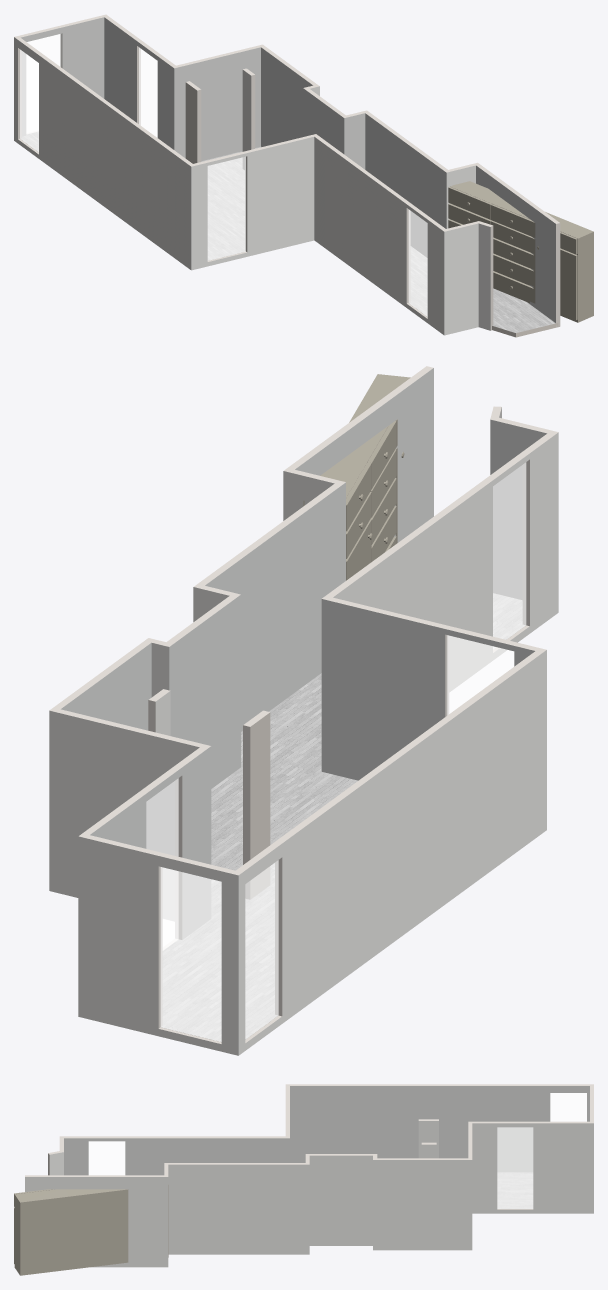
File: BasementHallwayNearLibrary.glb
The picture shows the model from 3 angles, top to bottom: view 1: azimuth 30°, elevation 25°; view 2: azimuth 150°, elevation 25°; view 3: azimuth 270°, elevation 25°; orthographic projection. The views are drawn at different scales.
Visible parts, largest first — view 1: wall_15, wall_5, wall_8, storage_cabinet_mid30, wall_45, wall_21, wall_43, floor_Other_1, wall_6, door_3, door_8, wall_23 (+22 smaller); view 2: wall_15, wall_5, wall_1, wall_33, floor_Other_1, wall_21, wall_14, door_4, door_9, wall_49, wall_17, storage_cabinet_mid30 (+23 smaller); view 3: wall_47, wall_2, storage_cabinet_mid30, wall_3, wall_13, wall_16, wall_27, wall_0, door_0, door_5, floor_Other_1, door_1 (+10 smaller).
Part boxes in pixels (x1=…): wall_15: x1=14, y1=37, x2=191, y2=269; wall_5: x1=314, y1=137, x2=444, y2=334; wall_8: x1=191, y1=137, x2=314, y2=270; storage_cabinet_mid30: x1=448, y1=181, x2=593, y2=322; wall_45: x1=174, y1=47, x2=260, y2=160; wall_21: x1=365, y1=113, x2=446, y2=257; wall_43: x1=104, y1=17, x2=174, y2=149; floor_Other_1: x1=20, y1=131, x2=261, y2=260; wall_6: x1=444, y1=223, x2=478, y2=335; door_3: x1=208, y1=157, x2=245, y2=260; door_8: x1=208, y1=157, x2=245, y2=260; wall_23: x1=261, y1=47, x2=312, y2=146; wall_15: x1=238, y1=650, x2=546, y2=1055; wall_5: x1=333, y1=432, x2=558, y2=691; wall_1: x1=78, y1=836, x2=238, y2=1055; wall_33: x1=321, y1=599, x2=534, y2=780; floor_Other_1: x1=161, y1=750, x2=357, y2=1041; wall_21: x1=205, y1=482, x2=345, y2=731; wall_14: x1=49, y1=710, x2=199, y2=897; door_4: x1=161, y1=867, x2=221, y2=1041; door_9: x1=161, y1=867, x2=221, y2=1041; wall_49: x1=169, y1=595, x2=240, y2=788; wall_17: x1=295, y1=368, x2=433, y2=542; storage_cabinet_mid30: x1=303, y1=374, x2=410, y2=580; wall_47: x1=290, y1=1086, x2=589, y2=1171; wall_2: x1=168, y1=1164, x2=309, y2=1254; storage_cabinet_mid30: x1=14, y1=1184, x2=168, y2=1275; wall_3: x1=373, y1=1160, x2=472, y2=1250; wall_13: x1=472, y1=1123, x2=593, y2=1213; wall_16: x1=309, y1=1155, x2=372, y2=1245; wall_27: x1=64, y1=1138, x2=289, y2=1175; wall_0: x1=25, y1=1177, x2=168, y2=1267; door_0: x1=497, y1=1127, x2=532, y2=1208; door_5: x1=497, y1=1127, x2=532, y2=1208; floor_Other_1: x1=497, y1=1172, x2=532, y2=1208; door_1: x1=89, y1=1141, x2=124, y2=1174.
Bounding box in the file's own units: 6.06 × 2.4 × 14.
40 materials, 2 textured.
